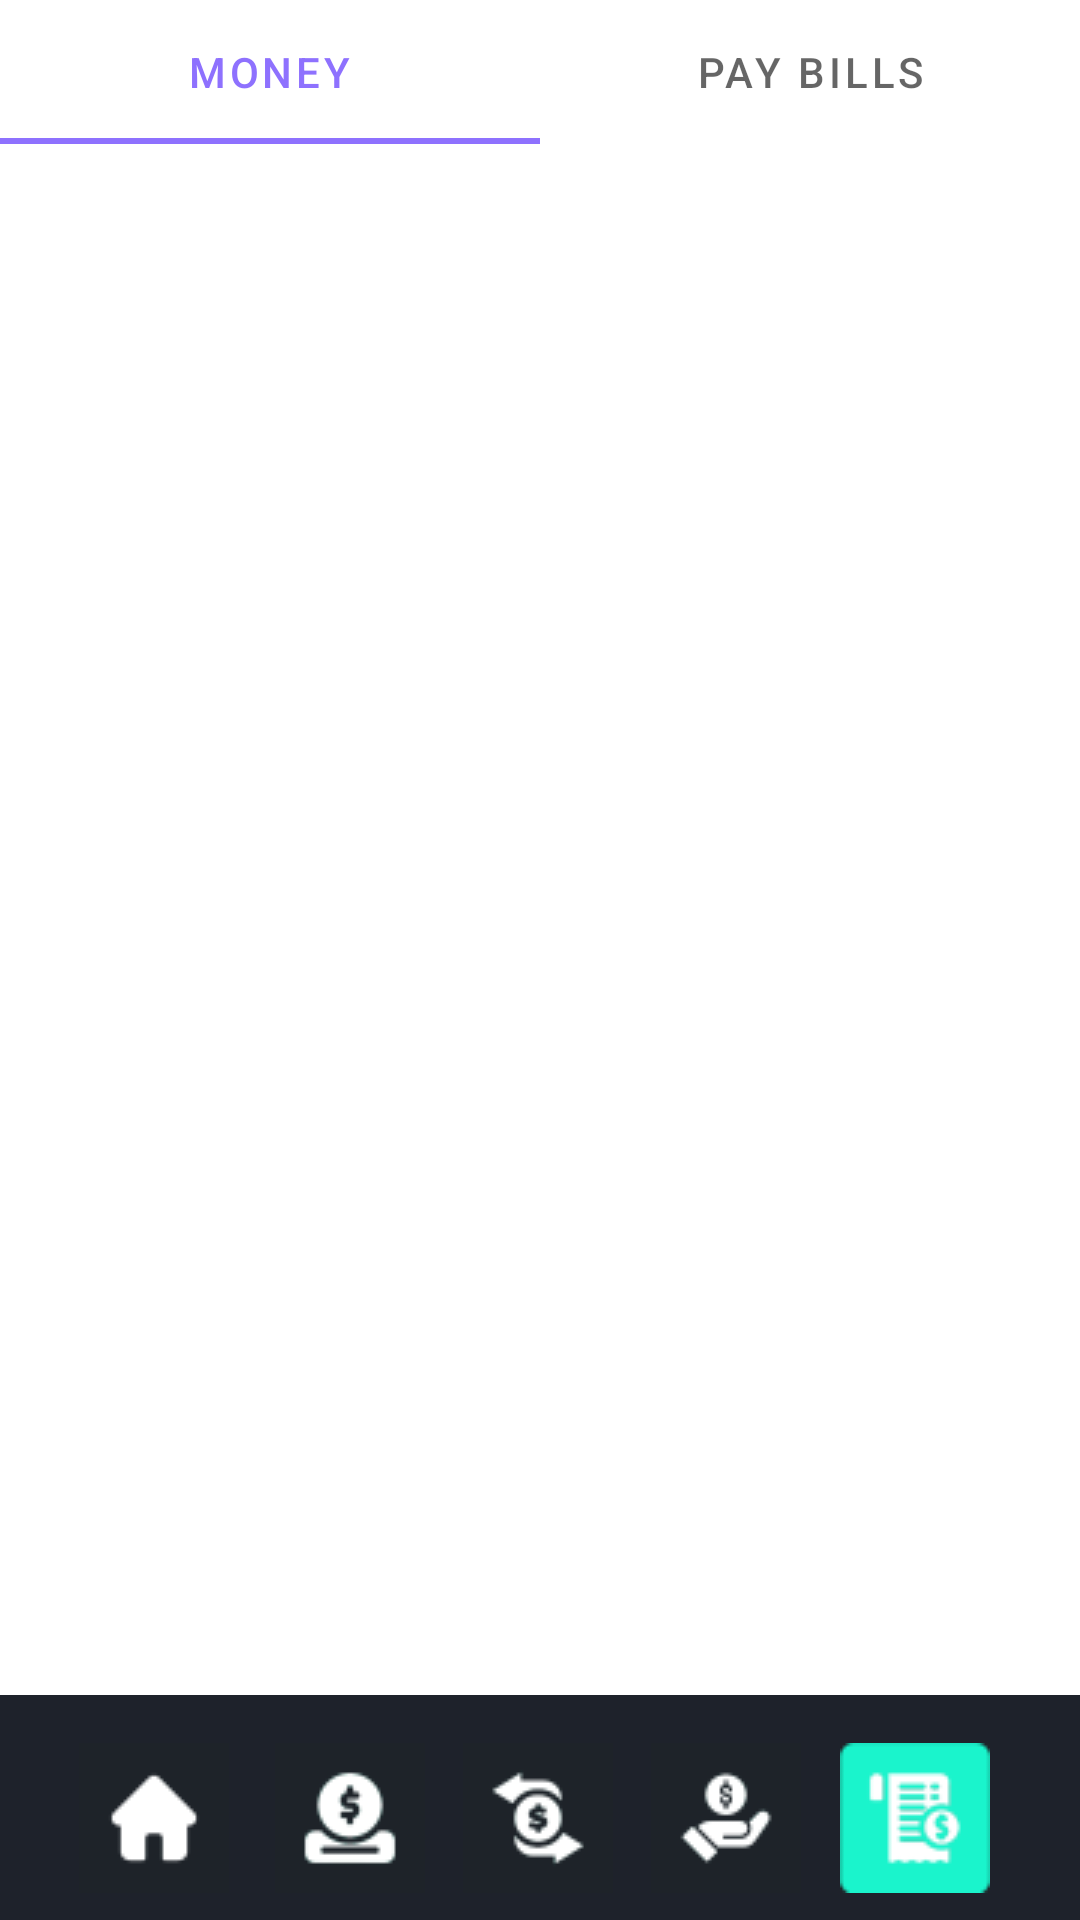

Named icons in this screenshot (1080px x 1920px) and their centers, point (x, y):
deposit: point (350, 1818)
home: point (154, 1819)
transactions: point (915, 1818)
transfer: point (538, 1818)
